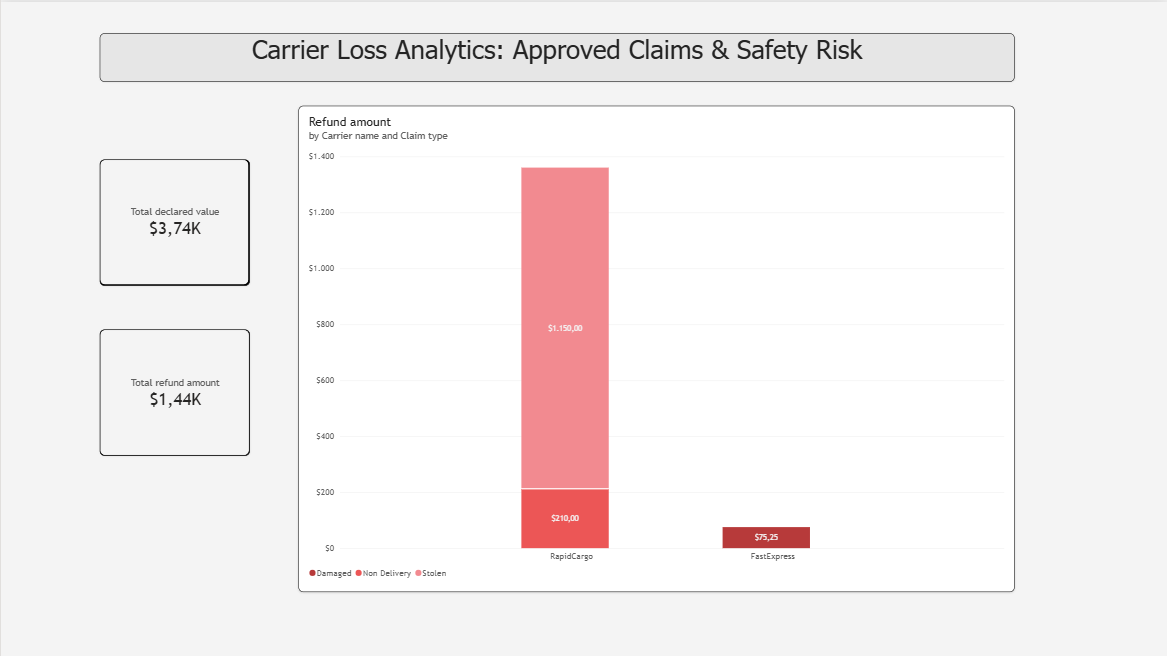

This screenshot's page, from the dashboard's own definition file:
{"tool":"powerbi","page":{"name":"Page 1","canvas":[1920,1080],"ordinal":0},"visuals":[{"type":"columnChart","fields":{"Category":["shipments.carrier_name"],"Series":["bpp_claims.claim_type"],"Y":["Sum(bpp_claims.refund_amount)"]},"box":[489.9,170.8,1179.4,800.7],"z":1},{"type":"cardVisual","fields":{"Data":["Sum(orders.declared_value)"]},"box":[162.6,259.3,247,207.9],"z":2},{"type":"cardVisual","fields":{"Data":["Sum(bpp_claims.refund_amount)"]},"box":[162.6,539.3,247,208],"z":3},{"type":"textbox","box":[162.6,51.5,1506.7,80.3],"z":4}]}

Visuals, with their boxes in screenshot pixels (x1, y1, x2, y2), scaled from the page's 1920x1080 canvas onto the 1167x656 screenshot:
columnChart - shipments.carrier_name x bpp_claims.claim_type: BBox(298, 104, 1015, 590)
cardVisual - Sum(orders.declared_value): BBox(99, 158, 249, 284)
cardVisual - Sum(bpp_claims.refund_amount): BBox(99, 328, 249, 454)
textbox: BBox(99, 31, 1015, 80)
